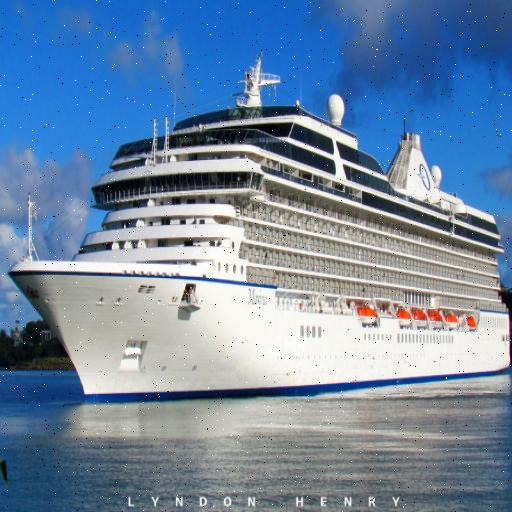cruises: (5, 52, 512, 409)
